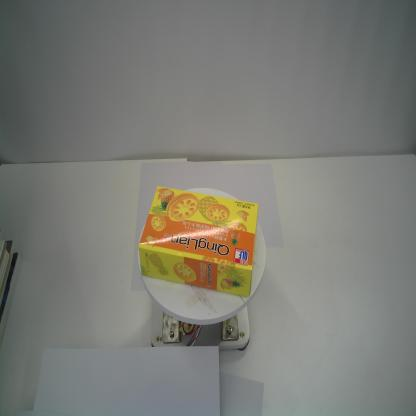Dessert: (136, 185, 260, 302)
